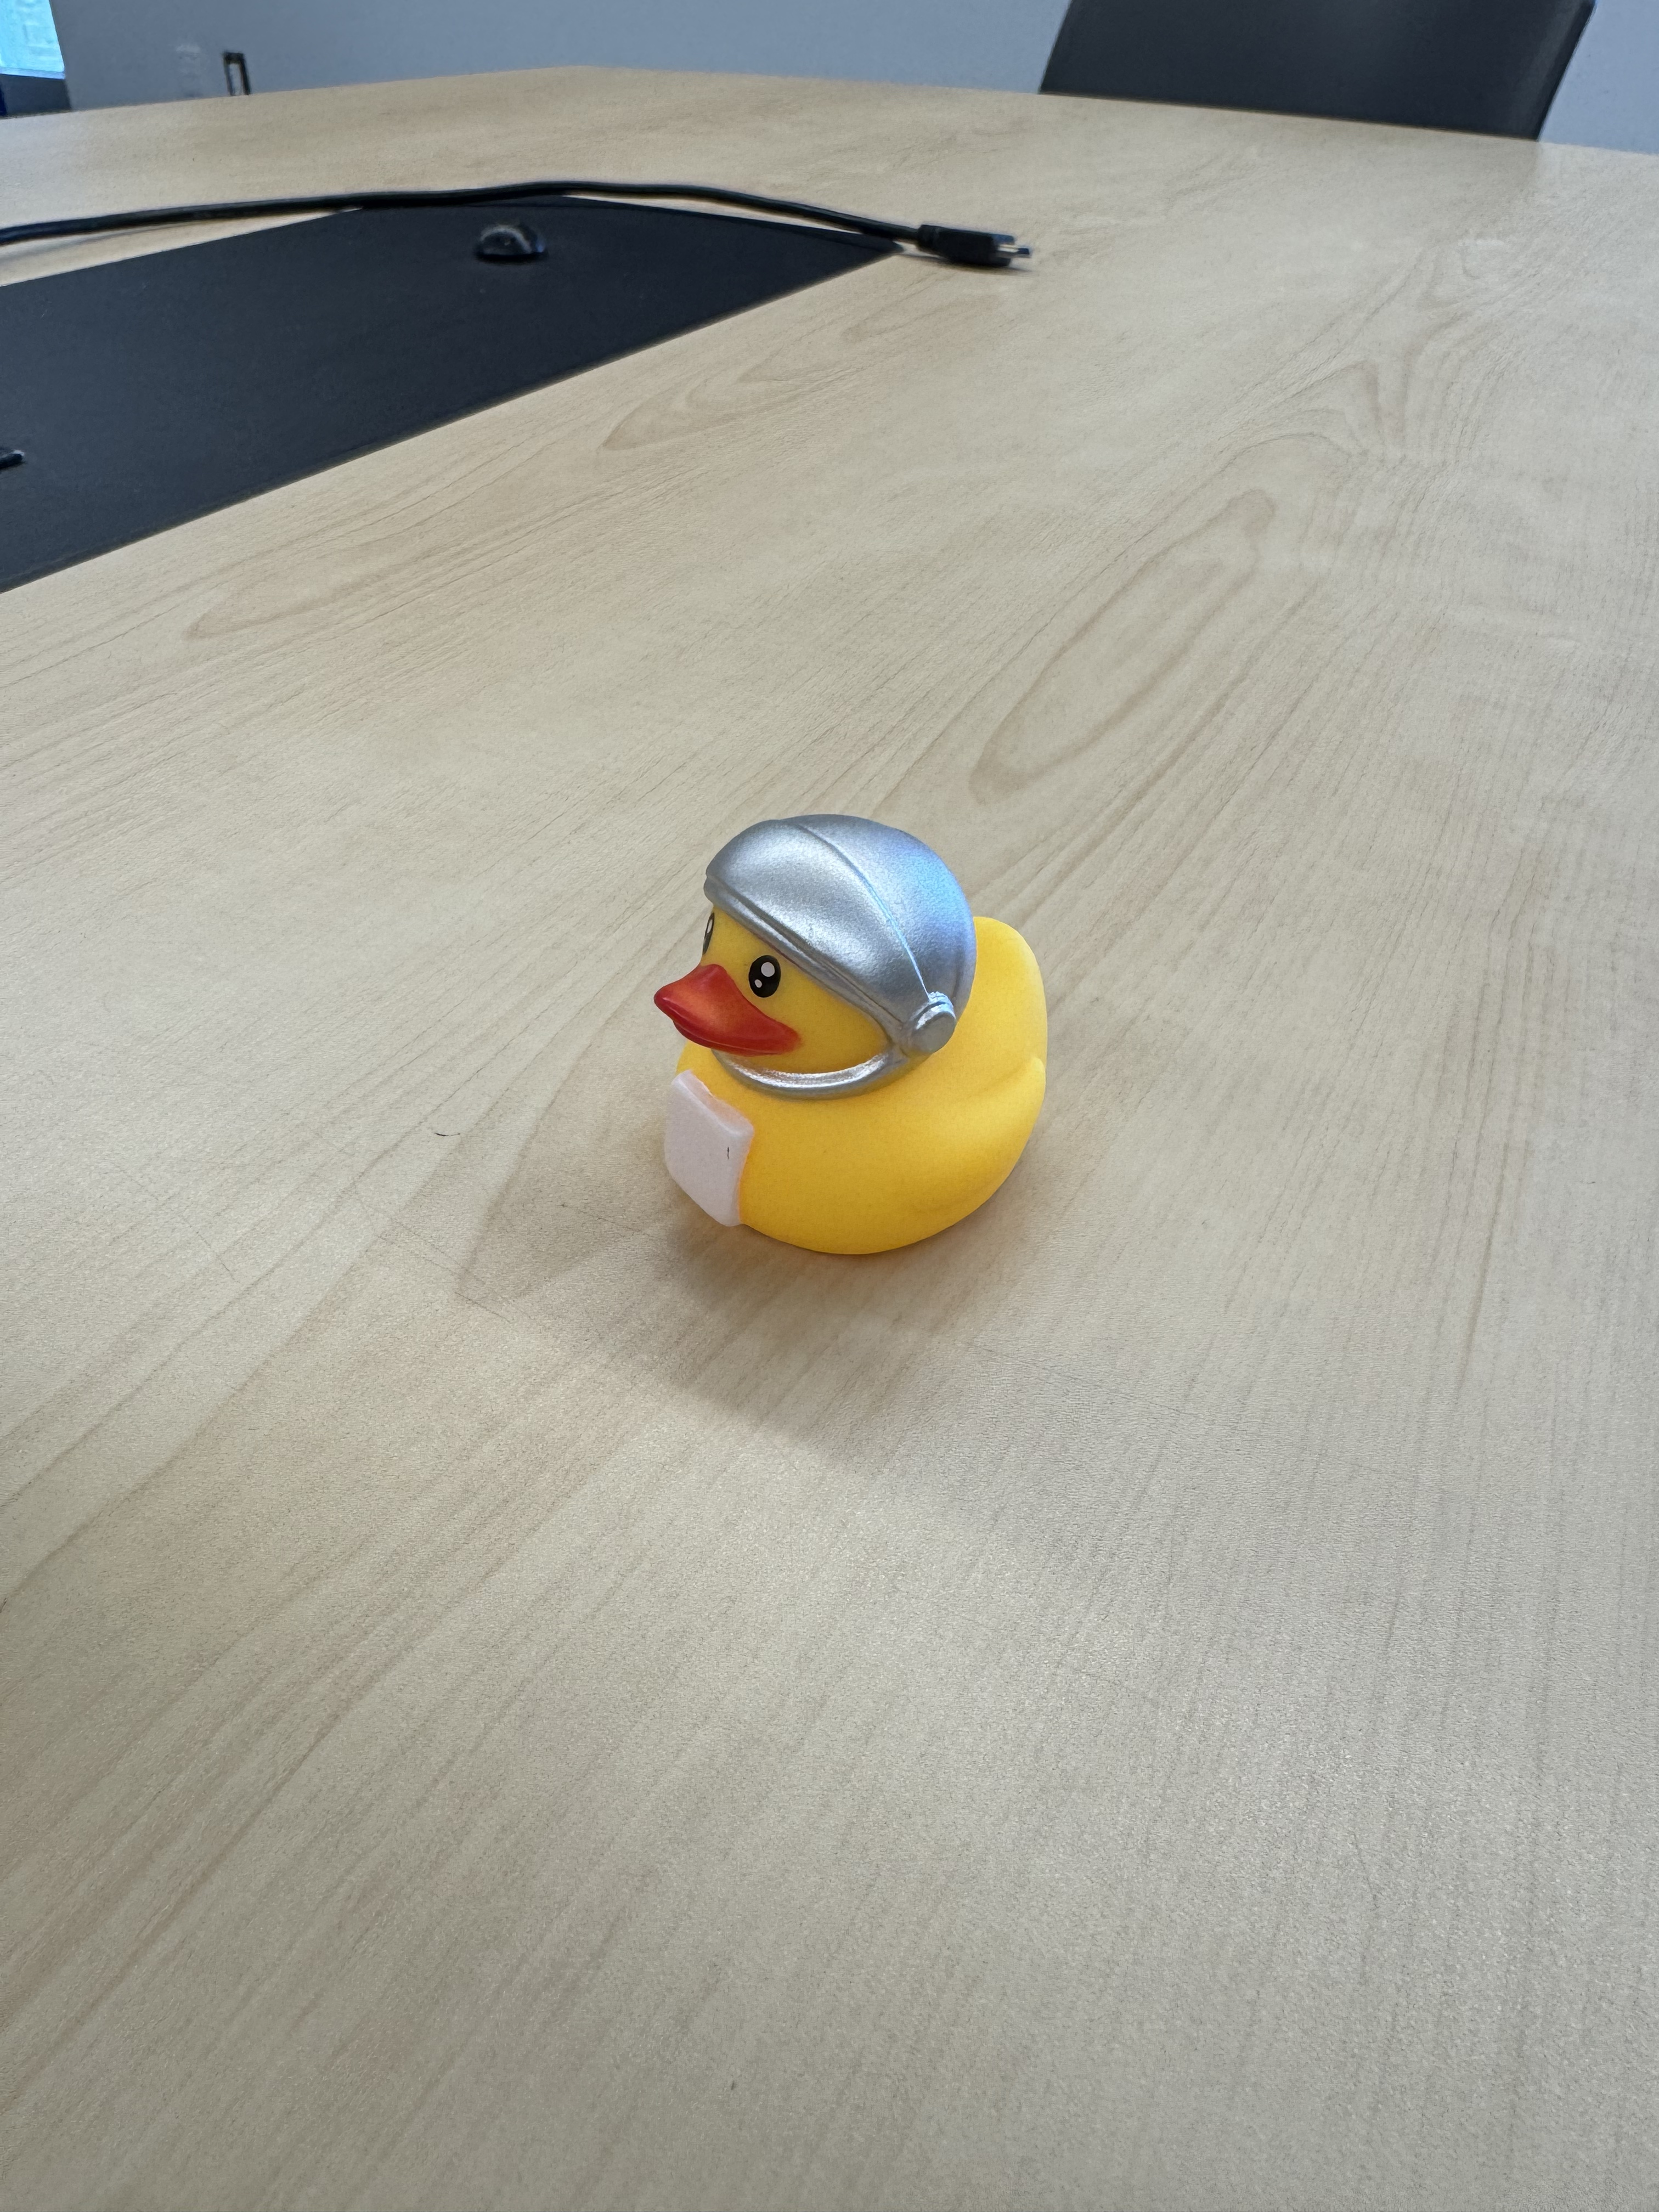duck_specialty: (648, 803, 1073, 1270)
